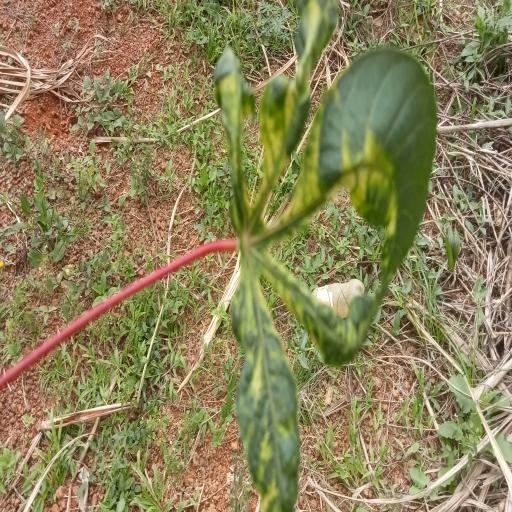Cassava_Mosaic: (212, 0, 439, 512)
